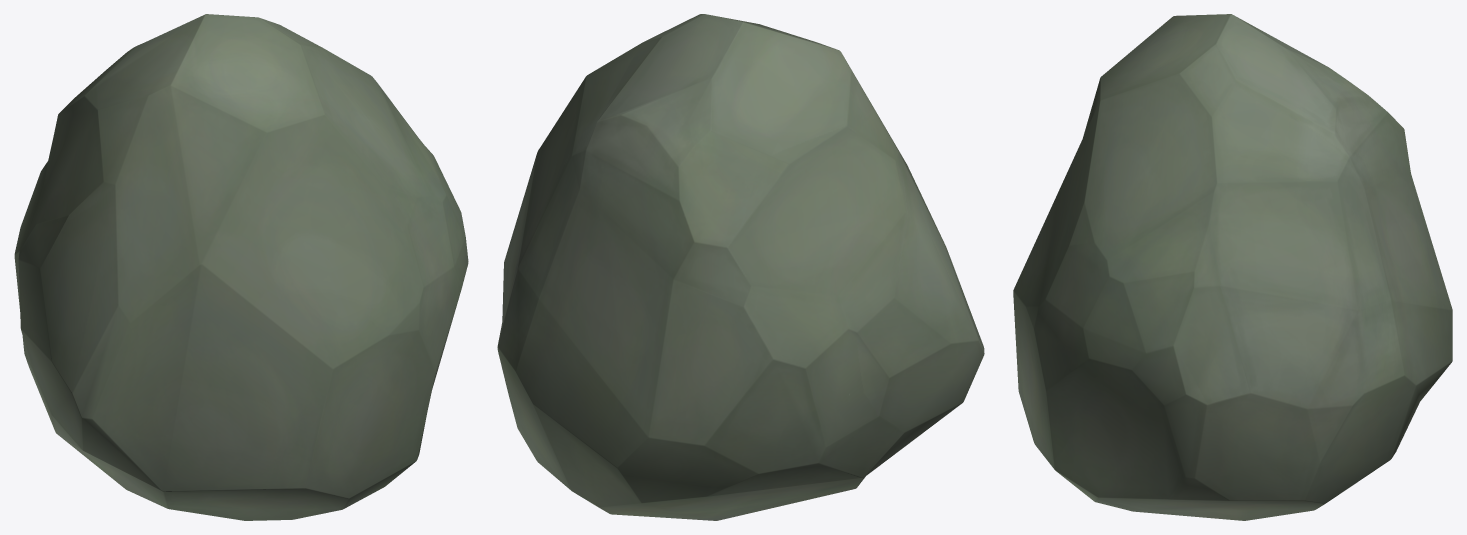
File: Rock1_LOD1.fbx
3 views of the same model, side by side, from view 1: azimuth 30°, elevation 25°; view 2: azimuth 150°, elevation 25°; view 3: azimuth 270°, elevation 25° (orthographic). The views are drawn at different scales.
Parts seen in each view (by area): view 1: Sphere; view 2: Sphere; view 3: Sphere.
Part boxes in pixels (left/top/right/bottom): Sphere: left=14, top=14, right=468, bottom=520; Sphere: left=497, top=14, right=984, bottom=520; Sphere: left=1013, top=14, right=1452, bottom=520.
Bounding box in the file's own units: 6 × 6.68 × 5.62.
